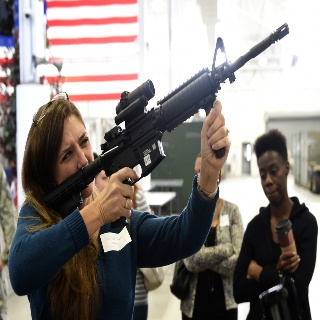rifle: (40, 22, 291, 226)
